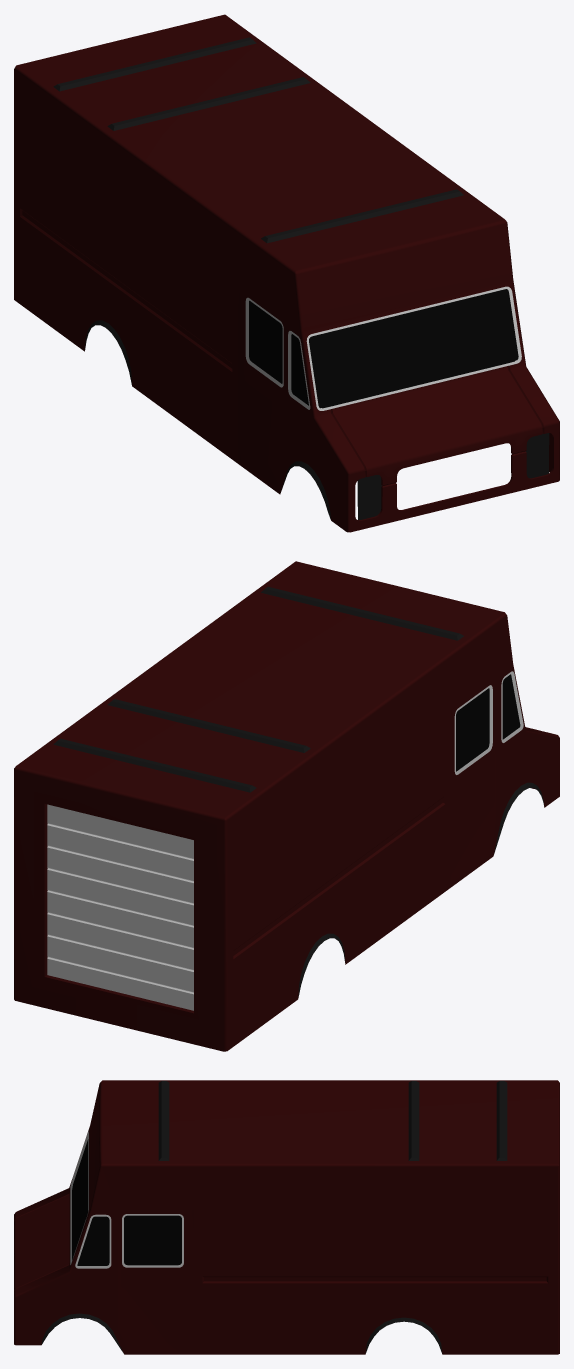
File: whiskey_salesman.fbx
3 views of the same model, one above another, from view 1: azimuth 30°, elevation 25°; view 2: azimuth 150°, elevation 25°; view 3: azimuth 270°, elevation 25° (orthographic). The views are drawn at different scales.
Visible parts, largest first — view 1: Body_paintable, Windows, Hood_paintable, Details, Doors_paintable, Chrome; view 2: Body_paintable, Chrome, Details, Doors_paintable, Windows; view 3: Body_paintable, Doors_paintable, Windows, Hood_paintable, Details, Chrome.
Boxes of the visible parts, box(x1,y1,x2,y2) form: Body_paintable: box(14, 14, 559, 532); Windows: box(249, 289, 518, 408); Hood_paintable: box(331, 366, 542, 485); Details: box(53, 37, 549, 520); Doors_paintable: box(239, 287, 283, 487); Chrome: box(245, 286, 521, 410); Body_paintable: box(14, 561, 559, 1051); Chrome: box(47, 671, 523, 1010); Details: box(53, 587, 544, 997); Doors_paintable: box(450, 677, 495, 881); Windows: box(456, 674, 520, 771); Body_paintable: box(14, 1080, 559, 1354); Doors_paintable: box(118, 1209, 193, 1351); Windows: box(72, 1139, 181, 1265); Hood_paintable: box(14, 1192, 70, 1291); Details: box(41, 1081, 507, 1353); Chrome: box(70, 1131, 183, 1268).
Bounding box in the file's own units: 20.95 × 21.67 × 55.53.
